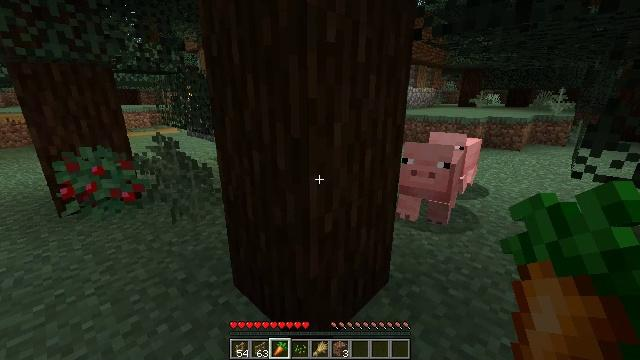pig: (396, 148, 465, 223), (428, 133, 482, 186)
